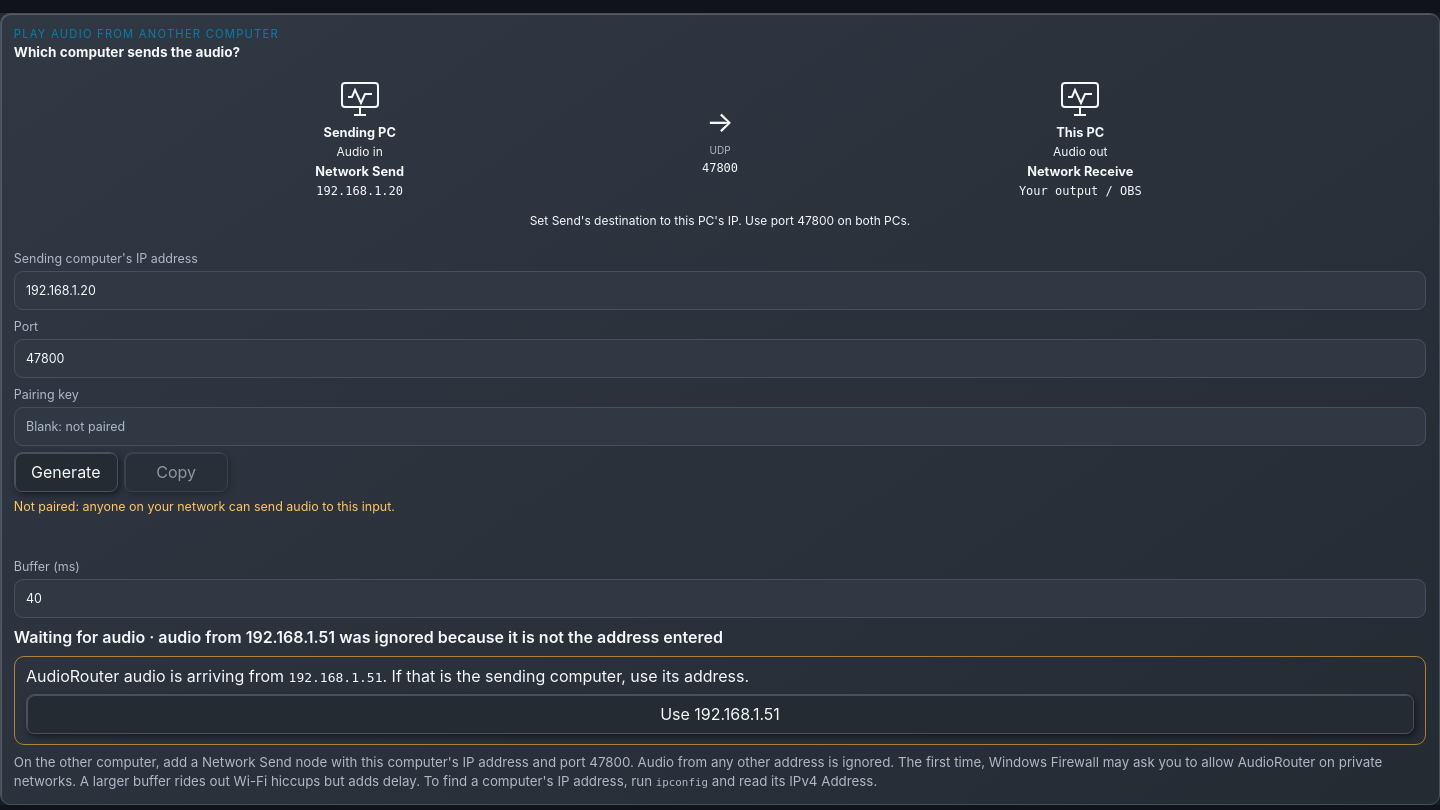
Test: NetworkNodeEditor › names the address audio really comes from and fixes the sender in one click
Expected: the 1st message shows "audio from 192.168.1.51 was ignored", [14,627,723,647]
Expected: the message that starts with "AudioRouter audio is arriving from" shows "arriving from 192.168.1.51", [14,656,1426,745]
Click the button "Use 192.168.1.51" at (720, 714), box [26,694,1414,734]
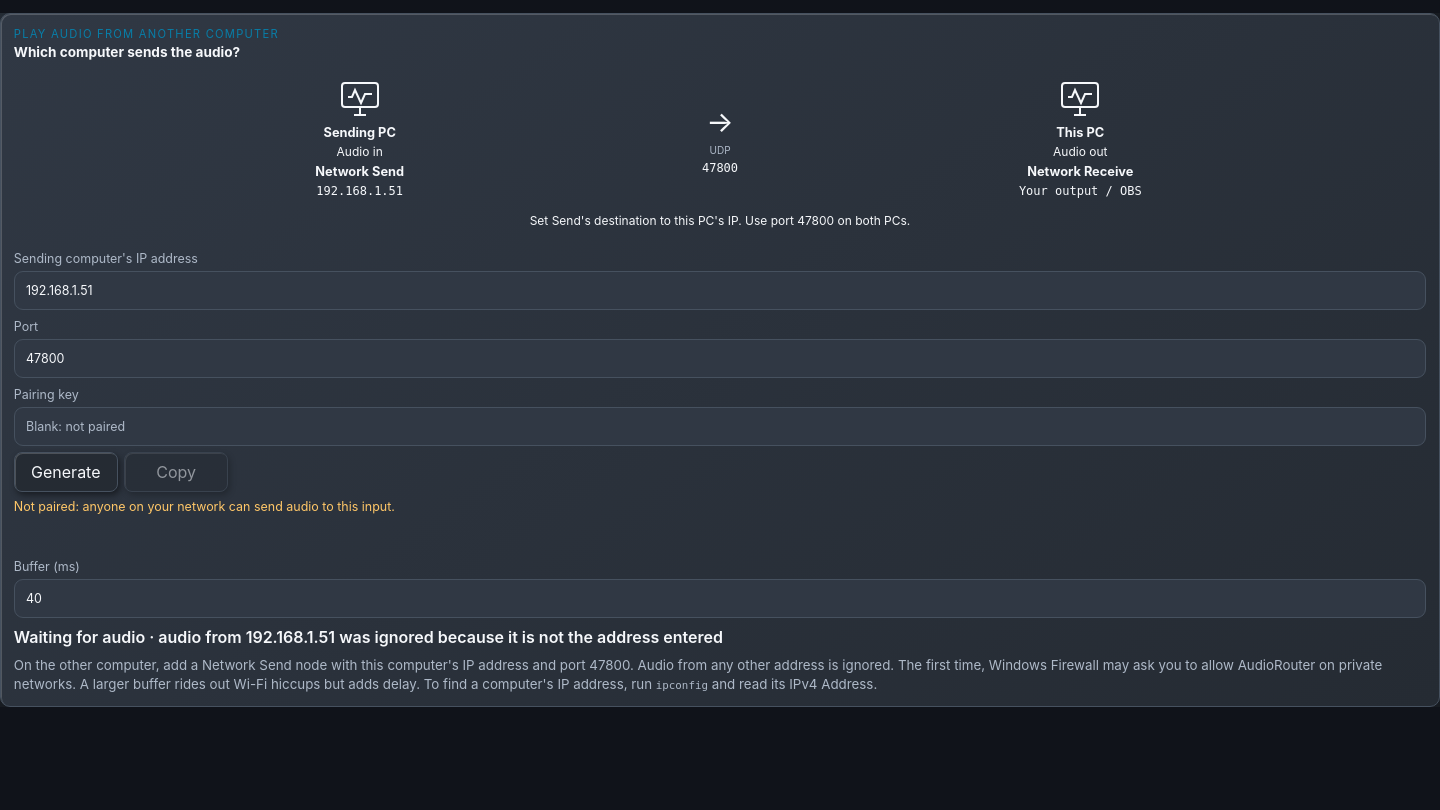
Expected: the field labelled "Sending computer's IP address" holds "192.168.1.51", [14,271,1426,310]
